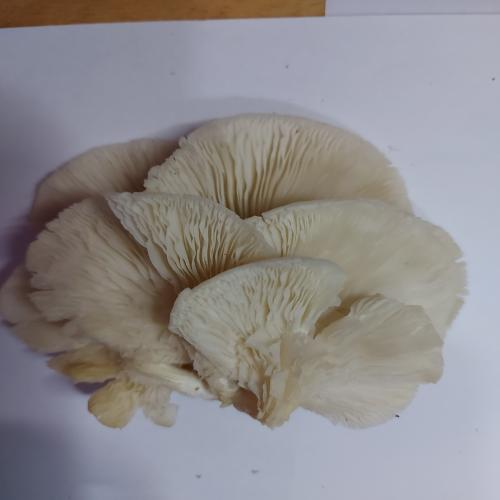Oyster Mushroom: (2, 112, 469, 431)
